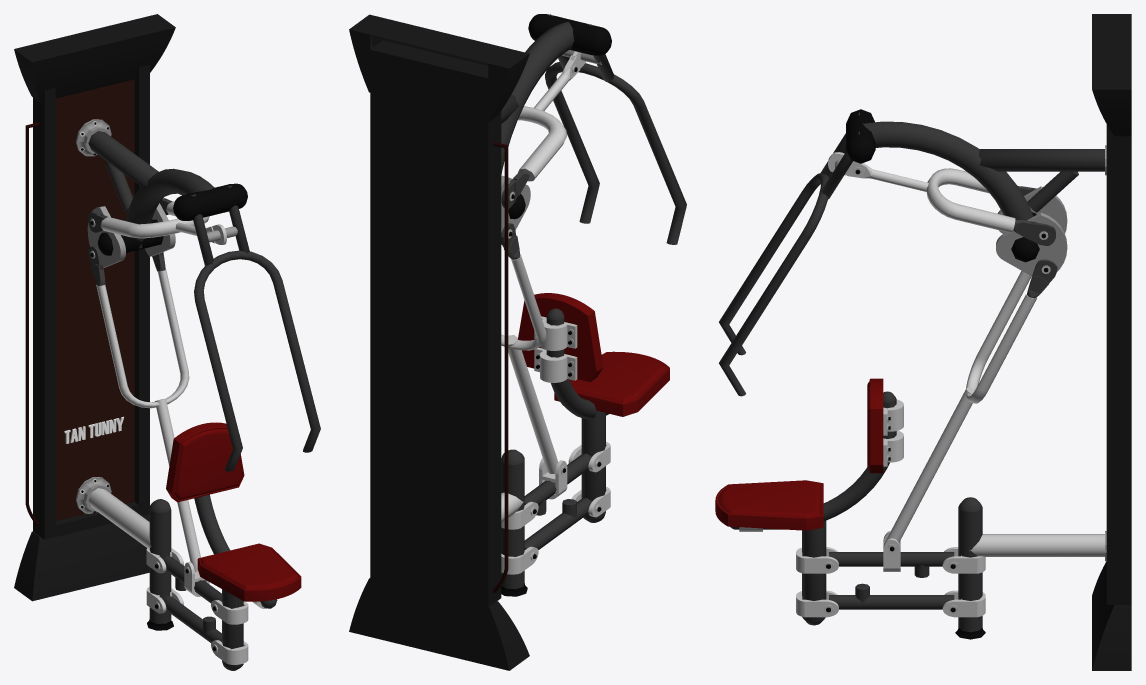
The model's file is MSH_Pecho_3.FBX.
The picture shows the model from 3 angles, left to right: view 1: azimuth 30°, elevation 25°; view 2: azimuth 150°, elevation 25°; view 3: azimuth 270°, elevation 25°; orthographic projection. The views are drawn at different scales.
Visible parts, largest first — view 1: MSH_Pecho_3; view 2: MSH_Pecho_3; view 3: MSH_Pecho_3.
Part boxes in pixels (<box>): MSH_Pecho_3: <box>14,14,320,670</box>; MSH_Pecho_3: <box>349,14,686,670</box>; MSH_Pecho_3: <box>715,14,1131,670</box>.
Size of the model in its own units: 0.7375 by 2.64 by 1.72.
